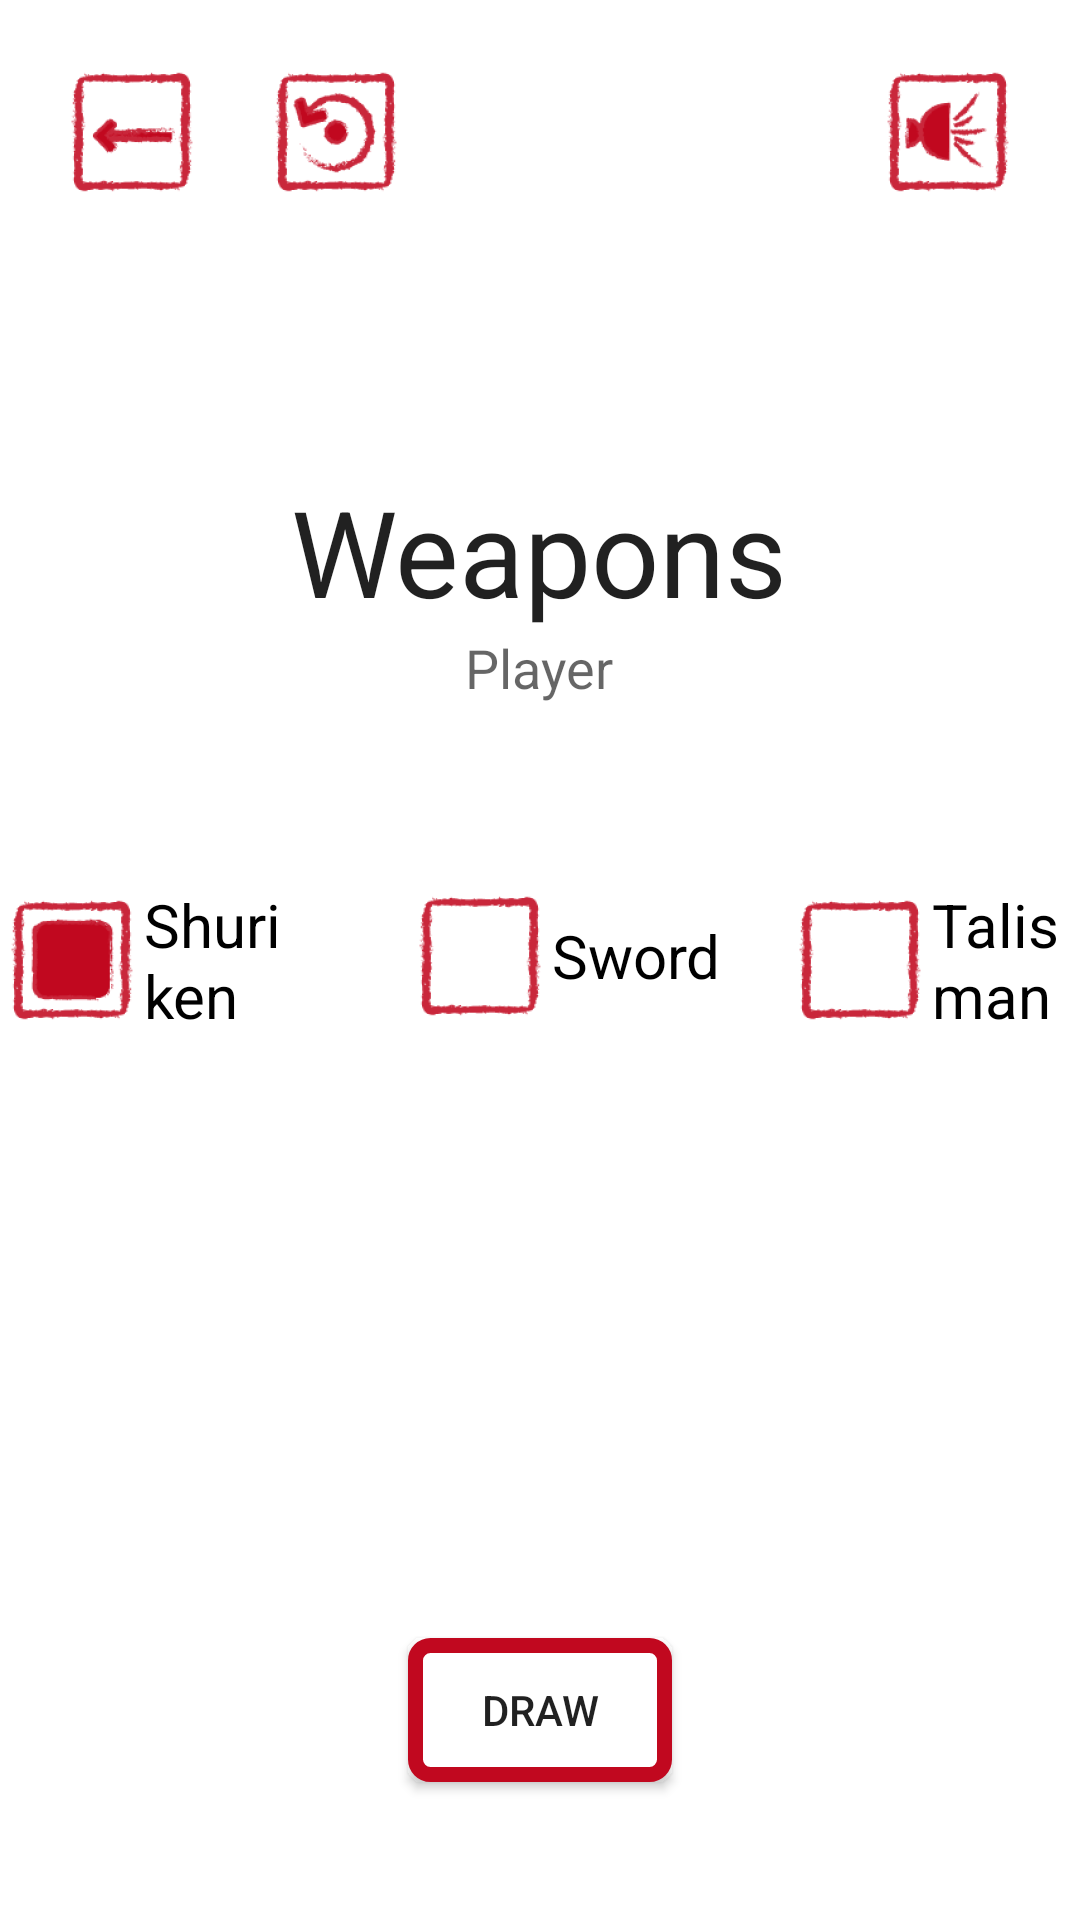

Named icons in this screenshot (1080w x 1920h) and their centers, (x=x, y=y):
Goes back to picking a mode: (x=132, y=132)
Restarts game and brings back tp weapon selection: (x=336, y=132)
Toggle audio on/off: (x=948, y=132)
